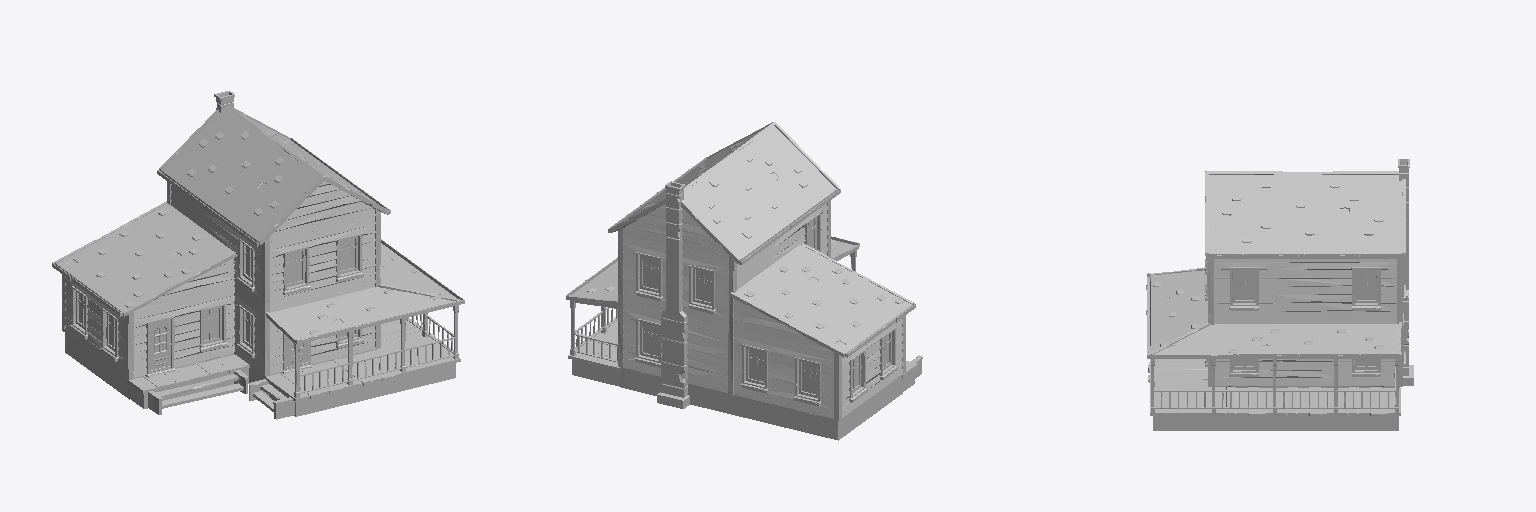
The model's file is SM_Bld_Farmhouse_01.obj.
3 renders of one model, left to right at view 1: azimuth 30°, elevation 25°; view 2: azimuth 150°, elevation 25°; view 3: azimuth 270°, elevation 25°, orthographic.
Parts seen in each view (by area): view 1: SM_Bld_Farmhouse_01, SM_Bld_Farmhouse_01_Glass, SM_Bld_Farmhouse_01_Door_02; view 2: SM_Bld_Farmhouse_01, SM_Bld_Farmhouse_01_Glass; view 3: SM_Bld_Farmhouse_01, SM_Bld_Farmhouse_01_Glass.
Part boxes in pixels (x1,y1,x2,y2): SM_Bld_Farmhouse_01: (52,91,464,419); SM_Bld_Farmhouse_01_Glass: (79,238,354,344); SM_Bld_Farmhouse_01_Door_02: (150,320,171,372); SM_Bld_Farmhouse_01: (566,122,922,440); SM_Bld_Farmhouse_01_Glass: (643,220,888,394); SM_Bld_Farmhouse_01: (1146,159,1413,430); SM_Bld_Farmhouse_01_Glass: (1235,271,1375,365).
Bounding box in the file's own units: 13.45 × 9.82 × 10.95.